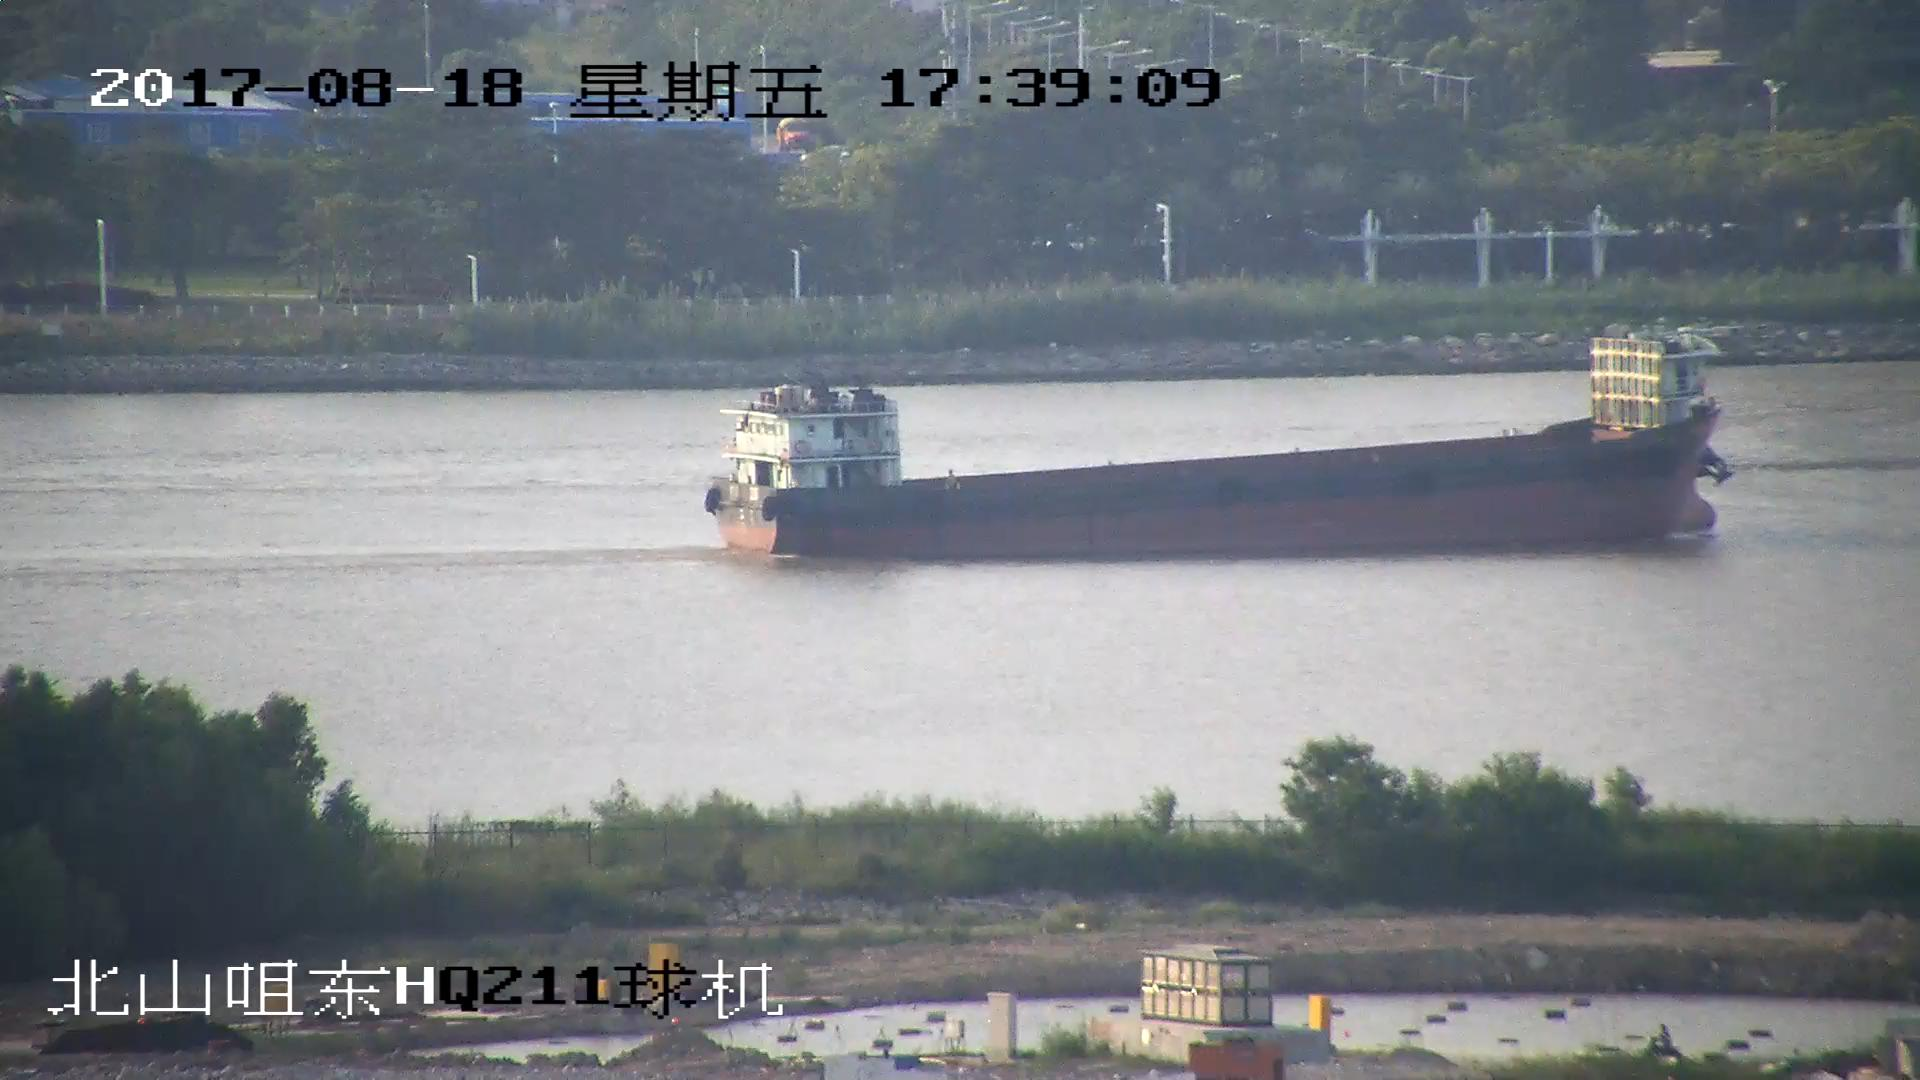general cargo ship: (713, 312, 1723, 562)
